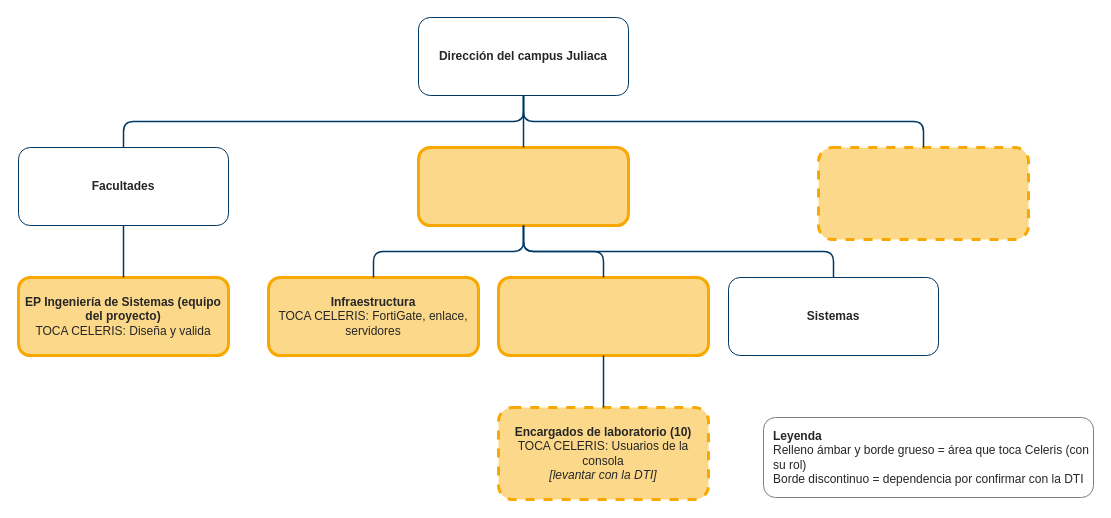
The diagram is 1111 pixels wide and 518 high, and some of its shapes have lost their labels. The shapes that lost their labels are listed below. From the top down, each one's centre as x and y in pixels, then its label:
At [523,186]: "Dirección de Tecnologías de Información (DTI) TOCA CELERIS: Aprueba y opera".
At [923,193]: "Oficial de datos personales TOCA CELERIS: Ley 29733 [levantar con la DTI]".
At [603,316]: "Soporte TOCA CELERIS: PCs e imágenes de laboratorio".
